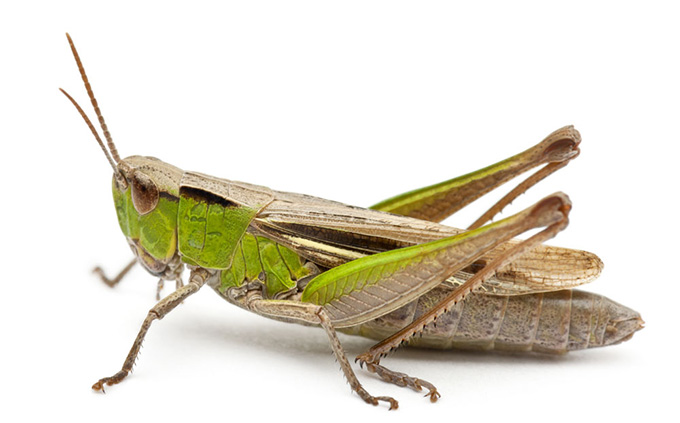huangchong: (83, 120, 632, 398)
